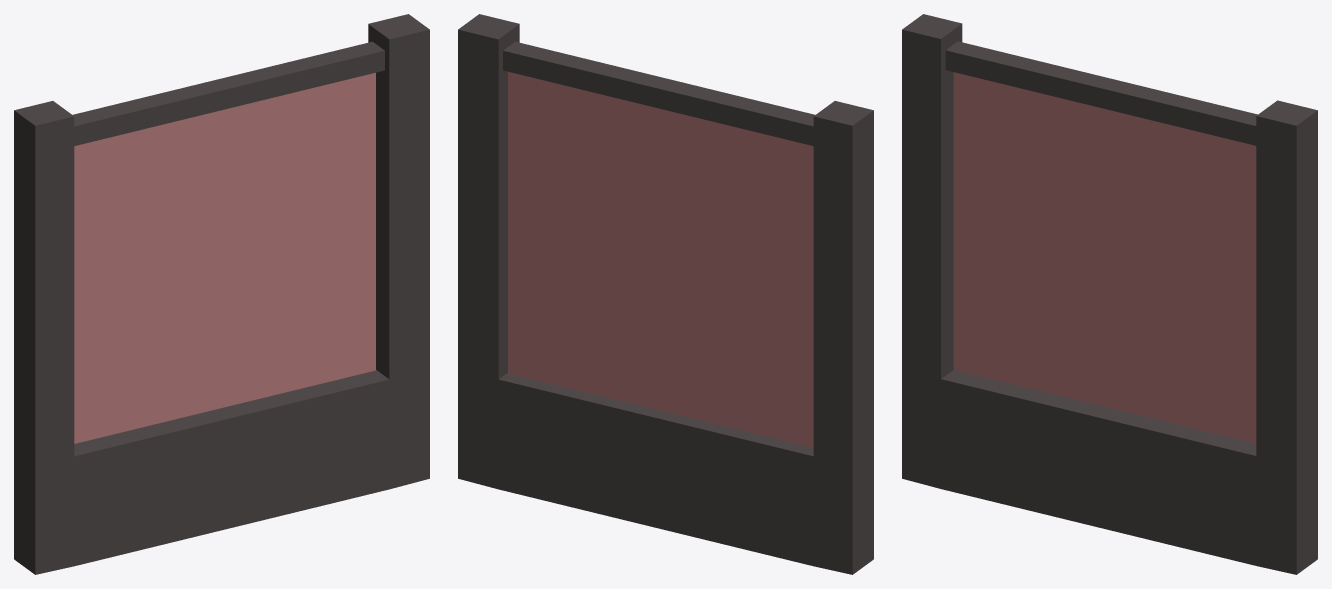
Rendered from VALLA.fbx.
3 renders of one model, left to right at view 1: azimuth 30°, elevation 25°; view 2: azimuth 150°, elevation 25°; view 3: azimuth 330°, elevation 25°, orthographic.
Parts seen in each view (by area): view 1: pCube1, pPlane1; view 2: pCube1, pPlane1; view 3: pCube1, pPlane1.
Part boxes in pixels (x1,y1,x2,y2): pCube1: [14, 14, 429, 574]; pPlane1: [74, 72, 375, 443]; pCube1: [458, 14, 873, 574]; pPlane1: [508, 71, 813, 447]; pCube1: [902, 14, 1317, 574]; pPlane1: [953, 72, 1256, 443].
Bounding box in the file's own units: 2.19 × 2.38 × 0.2048.
